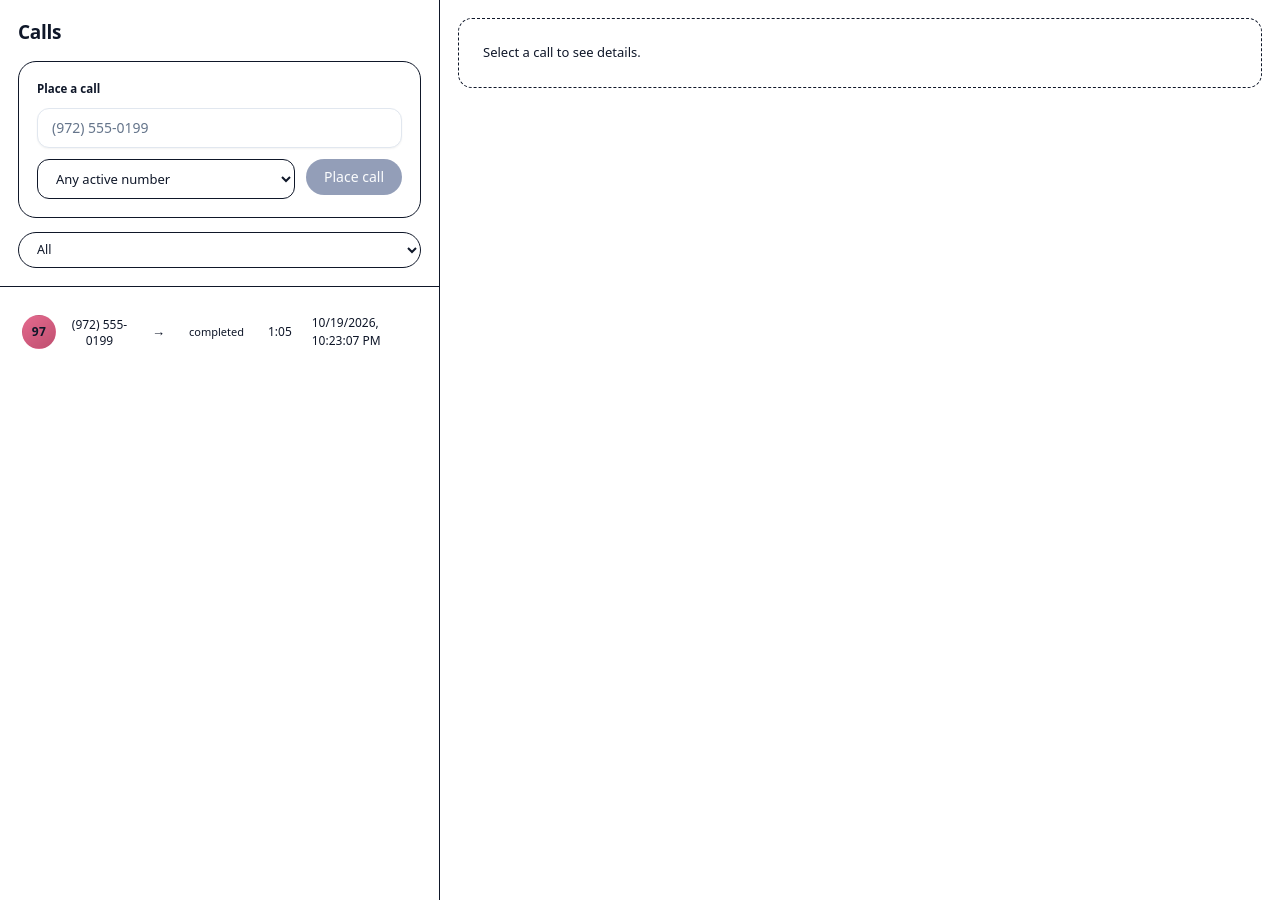
Test: CallsPage › does not render a transcript panel when there is nothing to show
This screenshot has width=1280, height=900.
Click the cell named "outbound": x=158, y=332 [144,303,173,361]
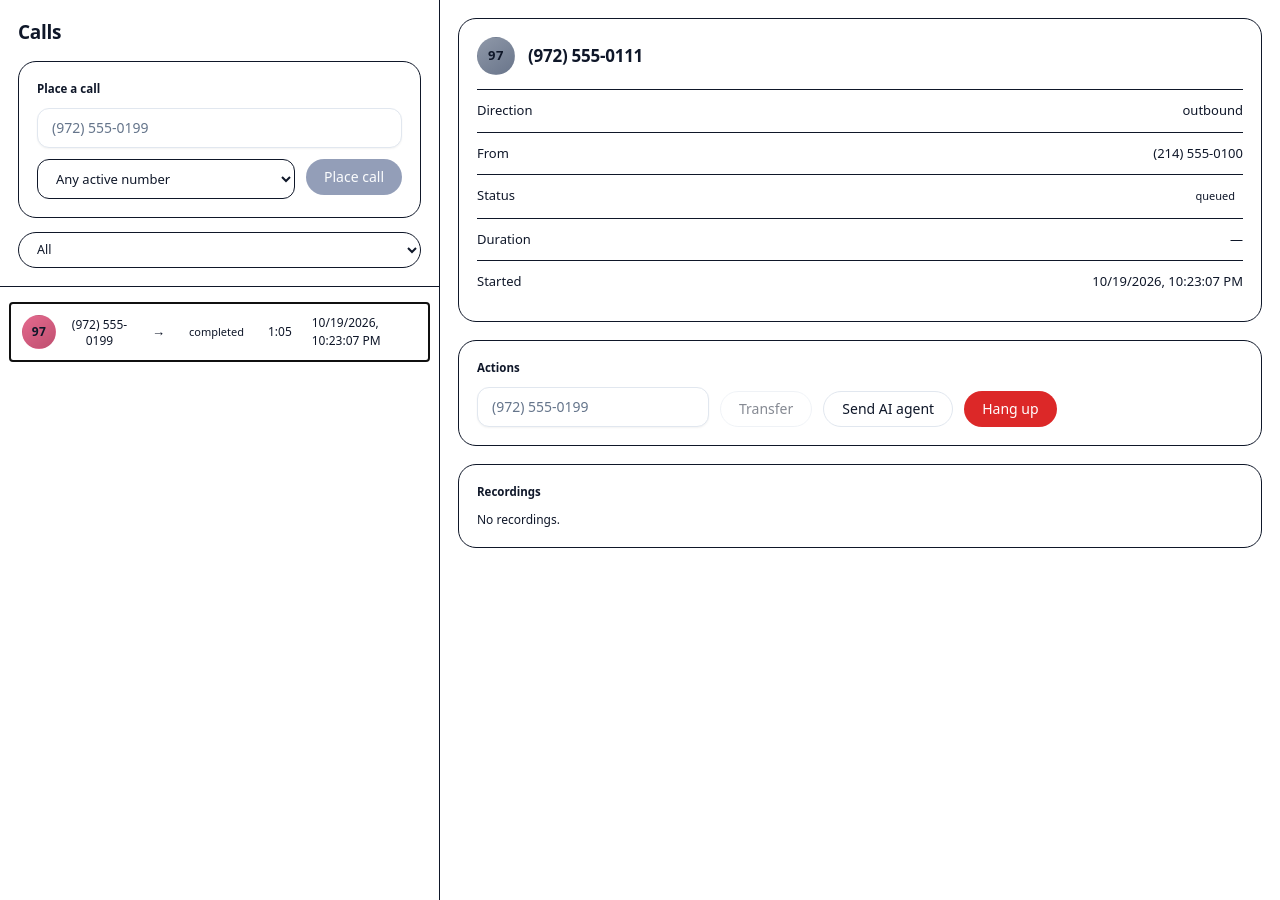
Check: the text "Recordings" is shown, box [477,484,541,499]
